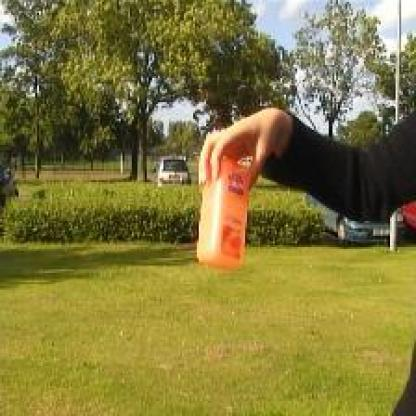other: (192, 147, 266, 274)
